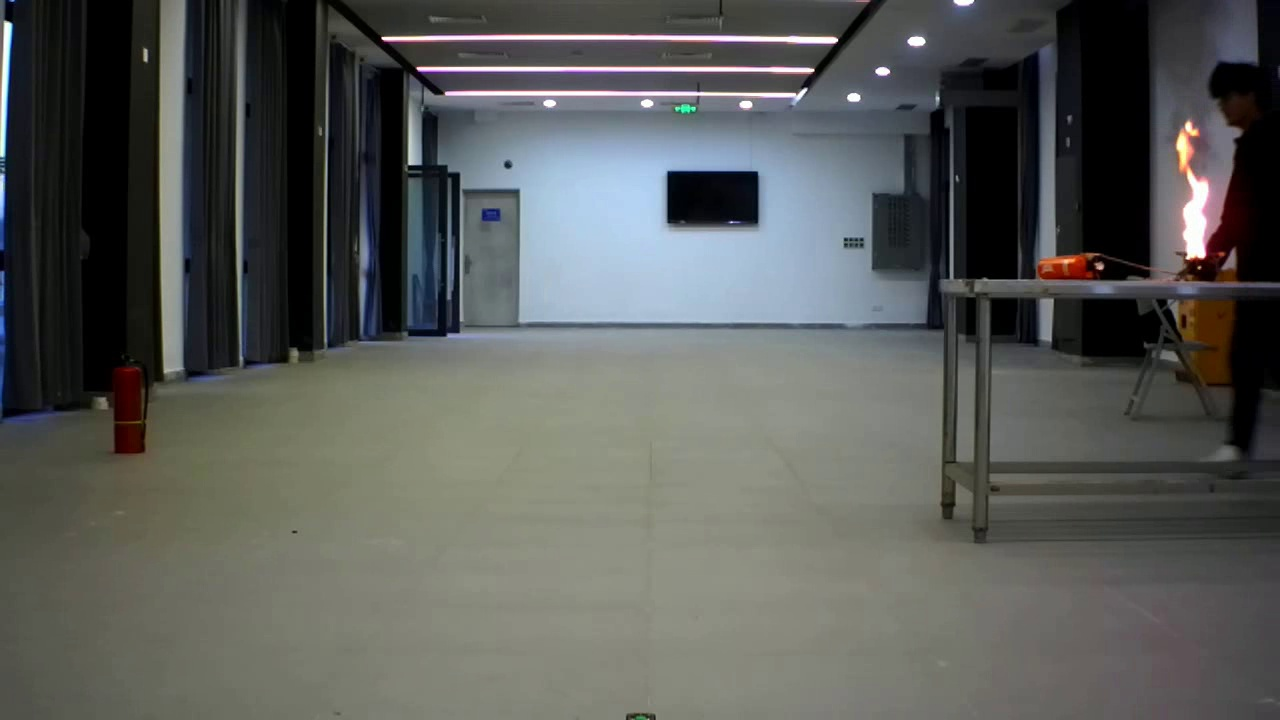Fire: (1170, 108, 1225, 267)
